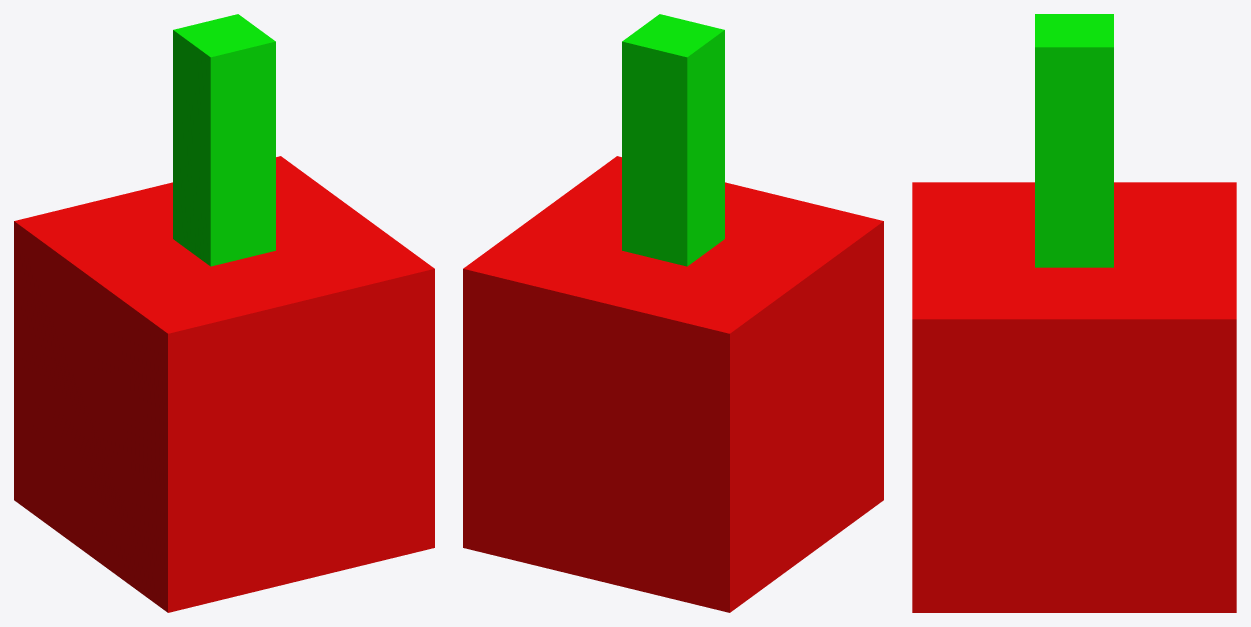
The model's file is Apple_Project_Test_1.fbx.
The picture shows the model from 3 angles, left to right: view 1: azimuth 30°, elevation 25°; view 2: azimuth 150°, elevation 25°; view 3: azimuth 270°, elevation 25°; orthographic projection. The views are drawn at different scales.
Parts seen in each view (by area): view 1: Cube.010; view 2: Cube.010; view 3: Cube.010.
Part boxes in pixels (left/top/right/bottom): Cube.010: left=14, top=14, right=434, bottom=612; Cube.010: left=463, top=14, right=883, bottom=612; Cube.010: left=912, top=14, right=1236, bottom=612.
Size of the model in its own units: 0.5 by 0.8747 by 0.5.
